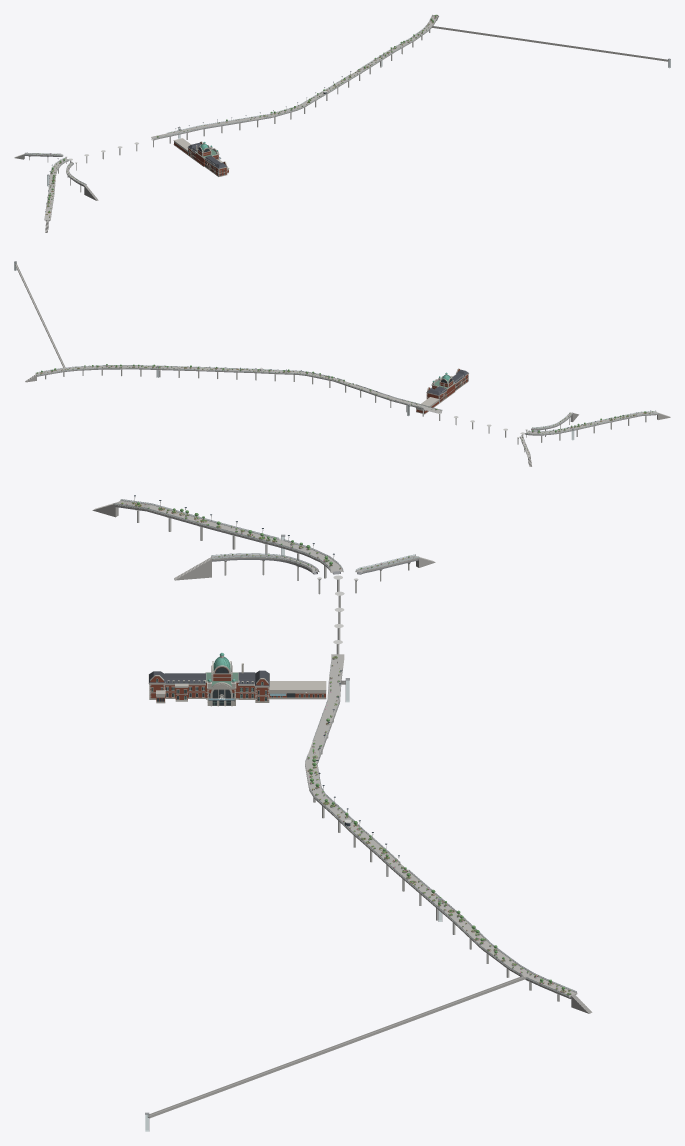
Rendered from keep.glb.
3 views of the same model, one above another, from view 1: azimuth 30°, elevation 25°; view 2: azimuth 150°, elevation 25°; view 3: azimuth 270°, elevation 25° (orthographic). The views are drawn at different scales.
Parts seen in each view (by area): view 1: SL_Deck, SL_Parapet_Glass, SL_Elevator_Bridges, SL_Curb_Upstand, SL_Piers, SL_Plants, OS_Granite_Trim; view 2: SL_Deck, SL_Parapet_Glass, SL_Curb_Upstand, SL_Piers, SL_Girders, SL_Plants, OS_Granite_Trim; view 3: SL_Deck, SL_Parapet_Glass, SL_Elevator_Bridges, OS_Granite_Trim, SL_Curb_Upstand, SL_Piers, SL_Plants, OS_Walls_Brick, SL_End_Stairs, SL_Planters, OS_Roof_Slate.
Boxes of the visible parts, <box> form: SL_Deck: <box>24,15,438,220</box>; SL_Parapet_Glass: <box>24,15,438,184</box>; SL_Elevator_Bridges: <box>49,26,668,176</box>; SL_Curb_Upstand: <box>24,15,438,219</box>; SL_Piers: <box>29,30,430,192</box>; SL_Plants: <box>40,14,437,214</box>; OS_Granite_Trim: <box>173,138,229,176</box>; SL_Deck: <box>35,366,658,457</box>; SL_Parapet_Glass: <box>36,365,658,450</box>; SL_Curb_Upstand: <box>38,365,658,456</box>; SL_Piers: <box>45,369,647,459</box>; SL_Girders: <box>37,369,657,435</box>; SL_Plants: <box>37,364,652,449</box>; OS_Granite_Trim: <box>416,373,468,414</box>; SL_Deck: <box>113,500,577,997</box>; SL_Parapet_Glass: <box>114,499,576,996</box>; SL_Elevator_Bridges: <box>148,538,529,1118</box>; OS_Granite_Trim: <box>148,672,326,705</box>; SL_Curb_Upstand: <box>113,500,576,996</box>; SL_Piers: <box>134,509,559,1001</box>; SL_Plants: <box>122,502,570,994</box>; OS_Walls_Brick: <box>150,683,325,701</box>; SL_End_Stairs: <box>92,502,592,1013</box>; SL_Planters: <box>121,503,571,995</box>; OS_Roof_Slate: <box>149,670,269,685</box>.
Size of the model in its own units: 1157 by 38.34 by 393.
